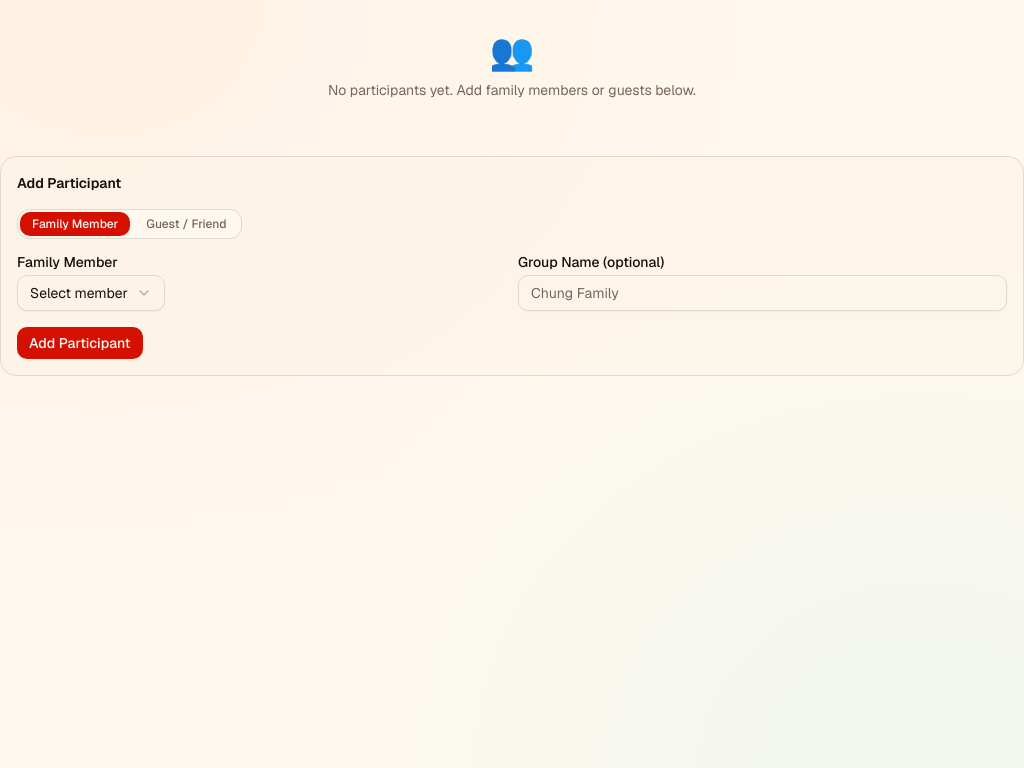
it: Mode toggle › switches to guest inputs when 'Guest / Friend' is clicked
The width and height of the screenshot is (1024, 768).
Click the button "Guest / Friend" at {"x": 186, "y": 224}, box 134,212 -> 239,236
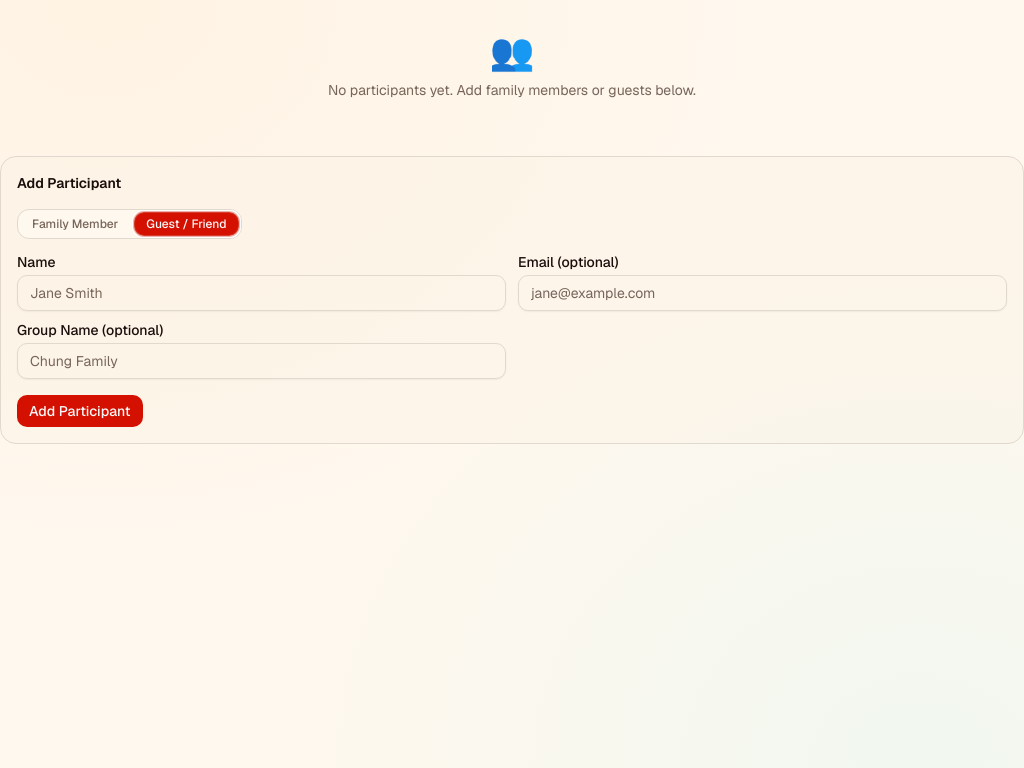
expect the field labelled "Name" is shown: met, box 17,275 -> 506,311
expect the field labelled "Email (optional)" is shown: met, box 518,275 -> 1007,311
